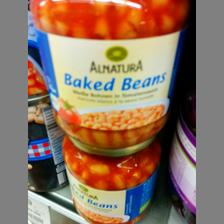Bohnen: (29, 0, 179, 144), (54, 134, 166, 222)
